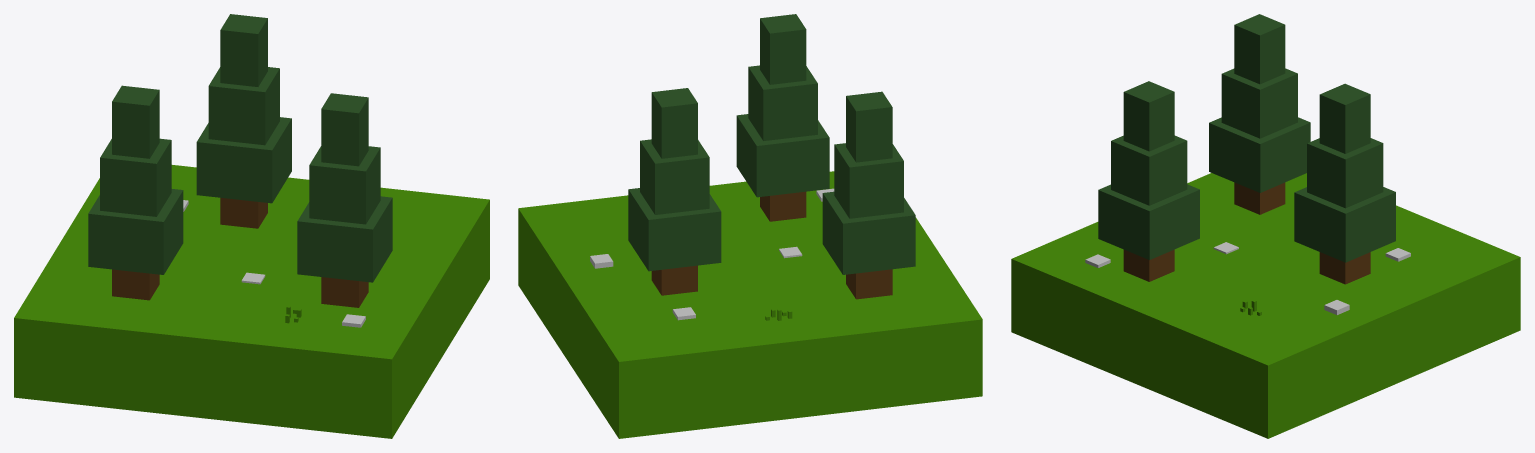
Rendered from grass_2.glb.
3 views of the same model, side by side, from view 1: azimuth 30°, elevation 25°; view 2: azimuth 150°, elevation 25°; view 3: azimuth 270°, elevation 25° (orthographic). The views are drawn at different scales.
Visible parts, largest first — view 1: Herbe_0, Cube_30, Bas arbre.002_36, Bas arbre.001_31, Bas arbre_1, Milieur arbre.002_38, Milieur arbre.001_33, Milieur arbre_3, Haut arbre_2, Haut arbre.002_37, Haut arbre.001_32, Tronc.001_34 (+2 smaller); view 2: Herbe_0, Cube_30, Bas arbre.001_31, Bas arbre_1, Bas arbre.002_36, Milieur arbre_3, Milieur arbre.001_33, Milieur arbre.002_38, Haut arbre_2, Haut arbre.002_37, Haut arbre.001_32, Tronc.002_39 (+2 smaller); view 3: Herbe_0, Cube_30, Bas arbre.001_31, Bas arbre.002_36, Bas arbre_1, Milieur arbre_3, Milieur arbre.002_38, Milieur arbre.001_33, Haut arbre.002_37, Haut arbre.001_32, Haut arbre_2, Tronc_4 (+2 smaller).
Boxes of the visible parts, x1,y1,x2,y2 form: Herbe_0: [14, 165, 489, 429]; Cube_30: [14, 246, 489, 438]; Bas arbre.002_36: [297, 196, 392, 282]; Bas arbre.001_31: [196, 117, 291, 203]; Bas arbre_1: [88, 189, 183, 274]; Milieur arbre.002_38: [309, 146, 380, 224]; Milieur arbre.001_33: [208, 67, 279, 145]; Milieur arbre_3: [100, 138, 171, 216]; Haut arbre_2: [112, 85, 159, 158]; Haut arbre.002_37: [321, 93, 368, 166]; Haut arbre.001_32: [220, 14, 267, 86]; Tronc.001_34: [220, 197, 267, 228]; Herbe_0: [518, 171, 982, 430]; Cube_30: [518, 254, 982, 438]; Bas arbre.001_31: [628, 188, 721, 271]; Bas arbre_1: [822, 191, 915, 274]; Bas arbre.002_36: [736, 114, 829, 197]; Milieur arbre_3: [834, 143, 903, 218]; Milieur arbre.001_33: [640, 139, 709, 214]; Milieur arbre.002_38: [748, 65, 817, 140]; Haut arbre_2: [846, 91, 892, 162]; Haut arbre.002_37: [760, 14, 806, 84]; Haut arbre.001_32: [651, 88, 697, 158]; Tronc.002_39: [760, 191, 806, 221]; Herbe_0: [1011, 173, 1520, 430]; Cube_30: [1011, 298, 1520, 438]; Bas arbre.001_31: [1294, 187, 1395, 262]; Bas arbre.002_36: [1098, 184, 1199, 259]; Bas arbre_1: [1209, 117, 1310, 192]; Milieur arbre_3: [1221, 68, 1297, 138]; Milieur arbre.002_38: [1111, 135, 1187, 205]; Milieur arbre.001_33: [1307, 138, 1383, 208]; Haut arbre.002_37: [1123, 81, 1174, 151]; Haut arbre.001_32: [1319, 83, 1370, 153]; Haut arbre_2: [1234, 14, 1285, 84]; Tronc_4: [1234, 182, 1285, 214].
Bounding box in the file's own units: 2.83 × 1.55 × 2.83.
